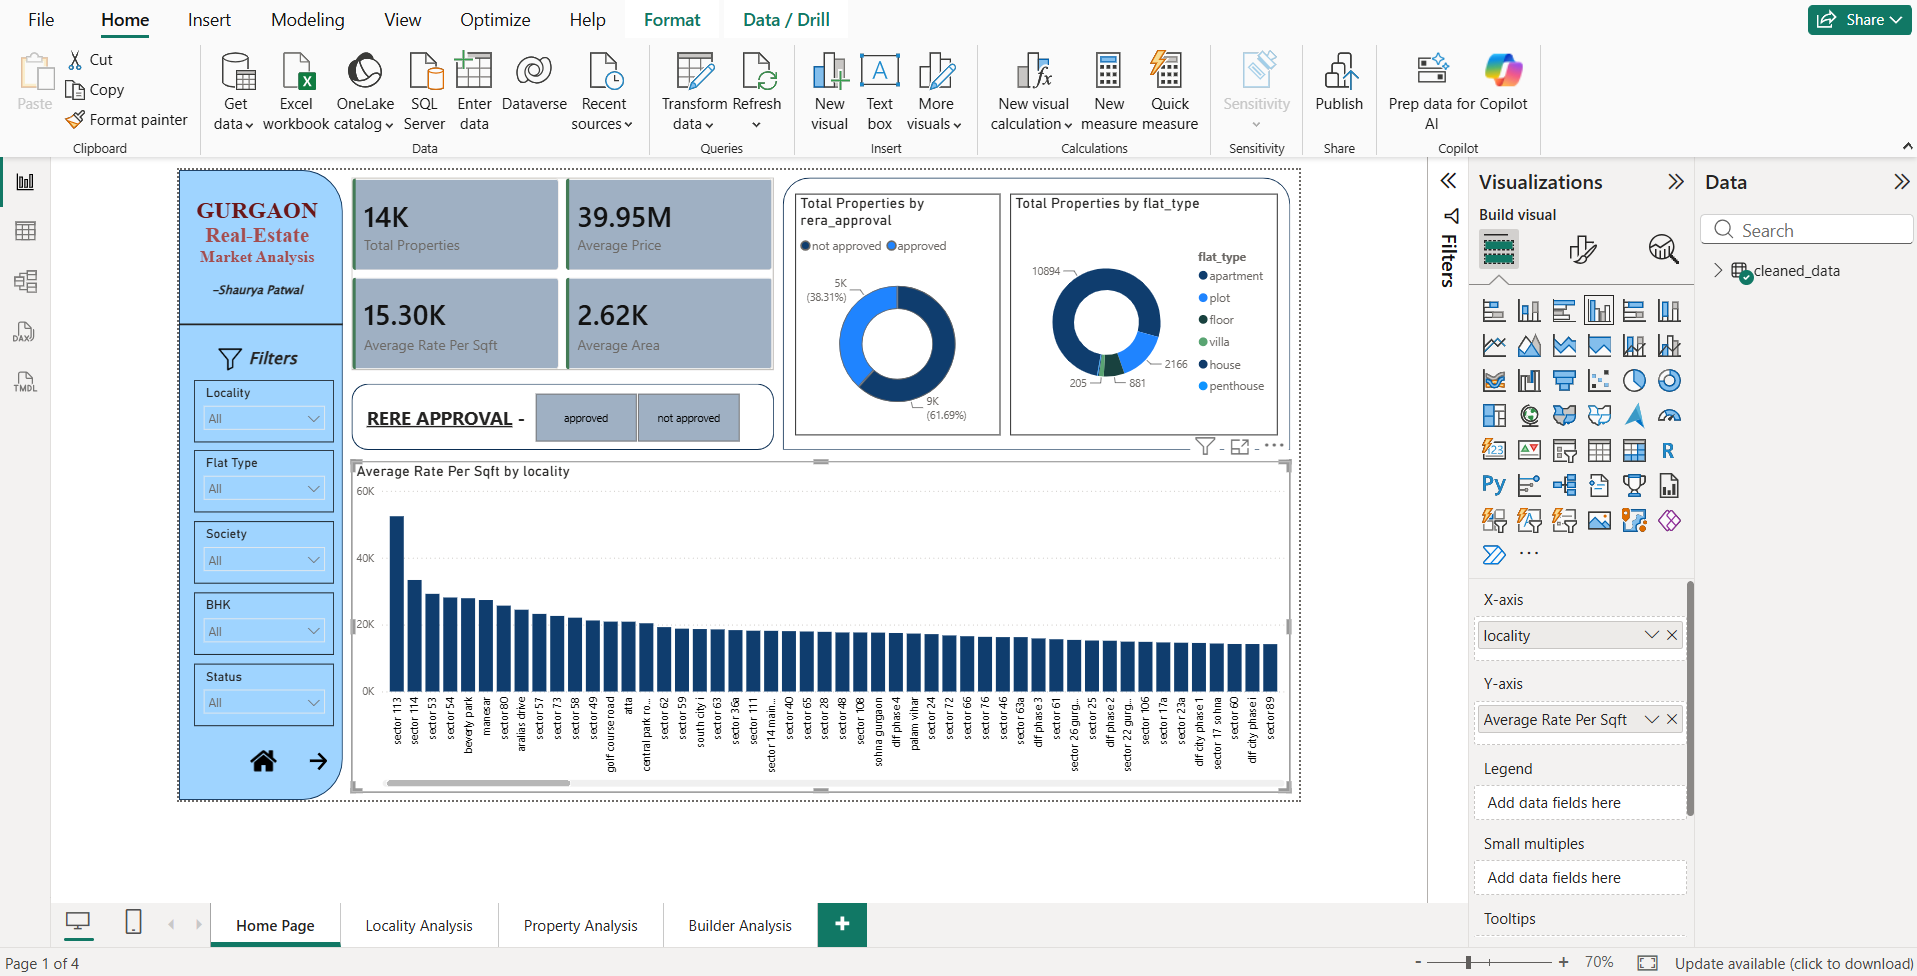

The page's visual inventory and layout, read from the dashboard file:
{"tool":"powerbi","page":{"name":"Home Page","canvas":[1280,720],"ordinal":0},"visuals":[{"type":"shape","box":[197.1,244.3,482.9,75.7],"z":0},{"type":"shape","box":[690,8.6,580,311.4],"z":1000},{"type":"shape","box":[0,0,187.1,720],"z":2000},{"type":"slicer","fields":{"Values":["cleaned_data.locality"]},"box":[17.1,240,160,71.4],"z":3000},{"type":"slicer","fields":{"Values":["cleaned_data.flat_type"]},"box":[17.1,319.7,160,71.2],"z":4000},{"type":"slicer","fields":{"Values":["cleaned_data.soceity"]},"box":[17.1,400.9,160,71.2],"z":5000},{"type":"slicer","fields":{"Values":["cleaned_data.BHK"]},"box":[17.1,482.2,160,71.2],"z":6000},{"type":"slicer","fields":{"Values":["cleaned_data.status"]},"box":[17.1,564.7,160,71.2],"z":7000},{"type":"actionButton","box":[143.8,661.2,33.8,28.8],"z":9000},{"type":"textbox","box":[0,25.7,178.6,134.3],"z":10000},{"type":"image","box":[68.6,660,56.3,30.2],"z":11000},{"type":"image","box":[31.2,202.6,54.9,27.4],"z":12000},{"type":"textbox","box":[58.7,195.7,97.4,41.2],"z":13000},{"type":"shape","box":[0,137.1,187.1,78.6],"z":14000},{"type":"slicer","fields":{"Values":["cleaned_data.rera_approval"]},"box":[381.4,248.6,282.9,68.6],"z":15000},{"type":"cardVisual","fields":{"Data":["cleaned_data.Total Properties","cleaned_data.Average Price","cleaned_data.Average Rate Per Sqft","cleaned_data.Average Area"]},"box":[197.1,8.6,482.9,221.4],"z":16000},{"type":"clusteredColumnChart","fields":{"Category":["cleaned_data.locality"],"Y":["cleaned_data.Average Rate Per Sqft"]},"box":[197.1,332.9,1072.9,378.6],"z":17000},{"type":"textbox","box":[197.1,262.9,215.7,40],"z":18000},{"type":"donutChart","fields":{"Category":["cleaned_data.rera_approval"],"Y":["cleaned_data.Total Properties"]},"box":[704.3,27.1,234.3,275.7],"z":19000},{"type":"donutChart","fields":{"Y":["cleaned_data.Total Properties"],"Category":["cleaned_data.flat_type"]},"box":[950,27.1,305.7,275.7],"z":20000}]}

Visuals, with their boxes on the page's 1280x720 design canvas (x1, y1, x2, y2). These are canvas units, not pixel positions in the 1917x976 screenshot, which may show the page scaled, cropped or inside an application window:
shape: region(197, 244, 680, 320)
shape: region(690, 9, 1270, 320)
shape: region(0, 0, 187, 720)
slicer - cleaned_data.locality: region(17, 240, 177, 311)
slicer - cleaned_data.flat_type: region(17, 320, 177, 391)
slicer - cleaned_data.soceity: region(17, 401, 177, 472)
slicer - cleaned_data.BHK: region(17, 482, 177, 553)
slicer - cleaned_data.status: region(17, 565, 177, 636)
actionButton: region(144, 661, 178, 690)
textbox: region(0, 26, 179, 160)
image: region(69, 660, 125, 690)
image: region(31, 203, 86, 230)
textbox: region(59, 196, 156, 237)
shape: region(0, 137, 187, 216)
slicer - cleaned_data.rera_approval: region(381, 249, 664, 317)
cardVisual - cleaned_data.Total Properties x cleaned_data.Average Price: region(197, 9, 680, 230)
clusteredColumnChart - cleaned_data.locality x cleaned_data.Average Rate Per Sqft: region(197, 333, 1270, 712)
textbox: region(197, 263, 413, 303)
donutChart - cleaned_data.rera_approval x cleaned_data.Total Properties: region(704, 27, 939, 303)
donutChart - cleaned_data.Total Properties x cleaned_data.flat_type: region(950, 27, 1256, 303)
